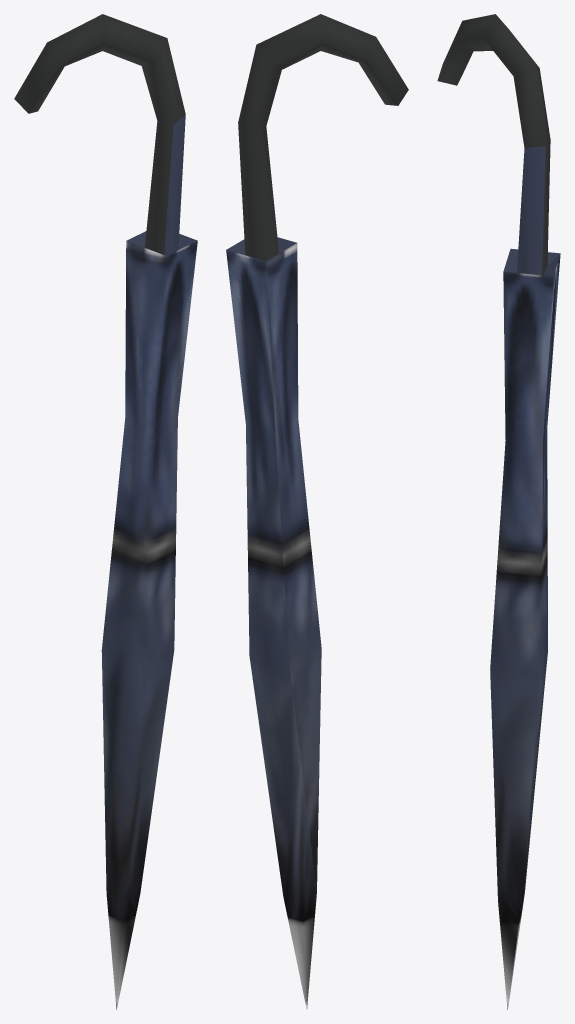
Rendered from p_umbrella.glb.
3 renders of one model, left to right at view 1: azimuth 30°, elevation 25°; view 2: azimuth 210°, elevation 25°; view 3: azimuth 330°, elevation 25°, orthographic.
Parts seen in each view (by area): view 1: p_umbrella; view 2: p_umbrella; view 3: p_umbrella.
Boxes of the visible parts, <box> form: p_umbrella: <box>14,14,197,1009</box>; p_umbrella: <box>226,14,408,1009</box>; p_umbrella: <box>437,14,560,1009</box>.
Size of the model in its own units: 5.54 by 35.82 by 3.3.
Materials: 2 (2 with a texture image).
